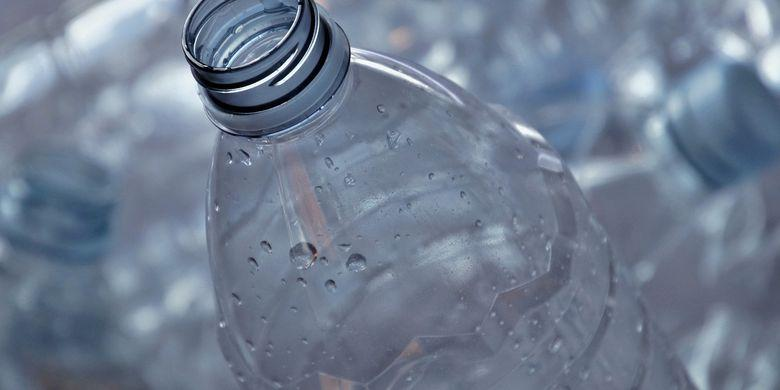metal: (183, 0, 349, 136)
plastic: (183, 0, 649, 389)
